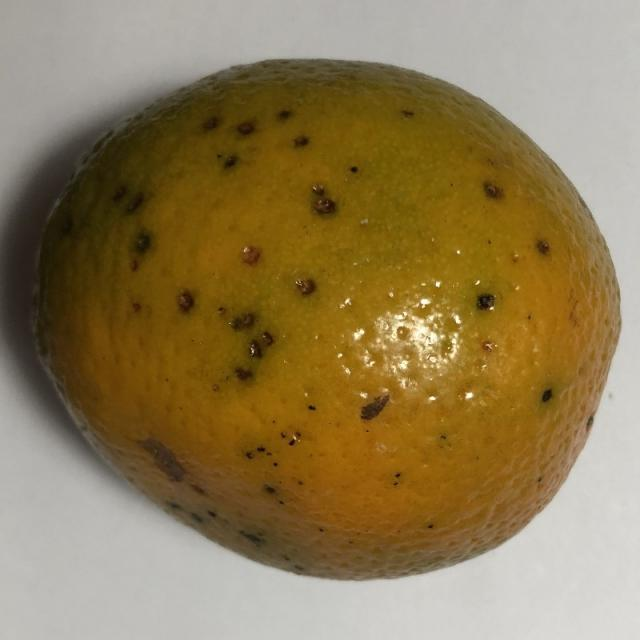blackspot: (8, 22, 628, 598)
